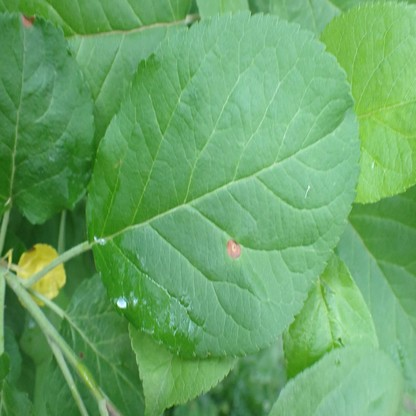frogeye: (227, 239, 241, 259), (22, 14, 35, 27)
